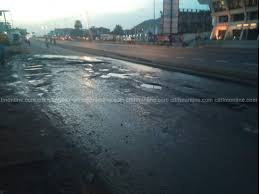pothole: (90, 59, 130, 81), (135, 79, 167, 96)
